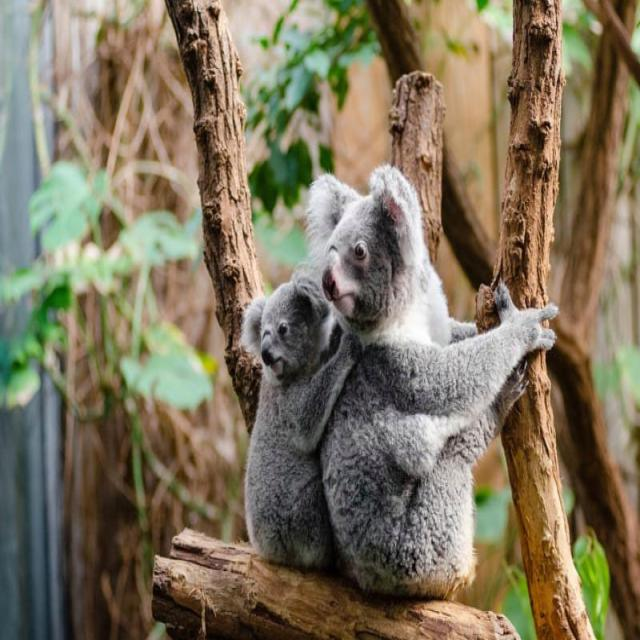koala: (306, 165, 558, 596), (242, 264, 360, 569)
